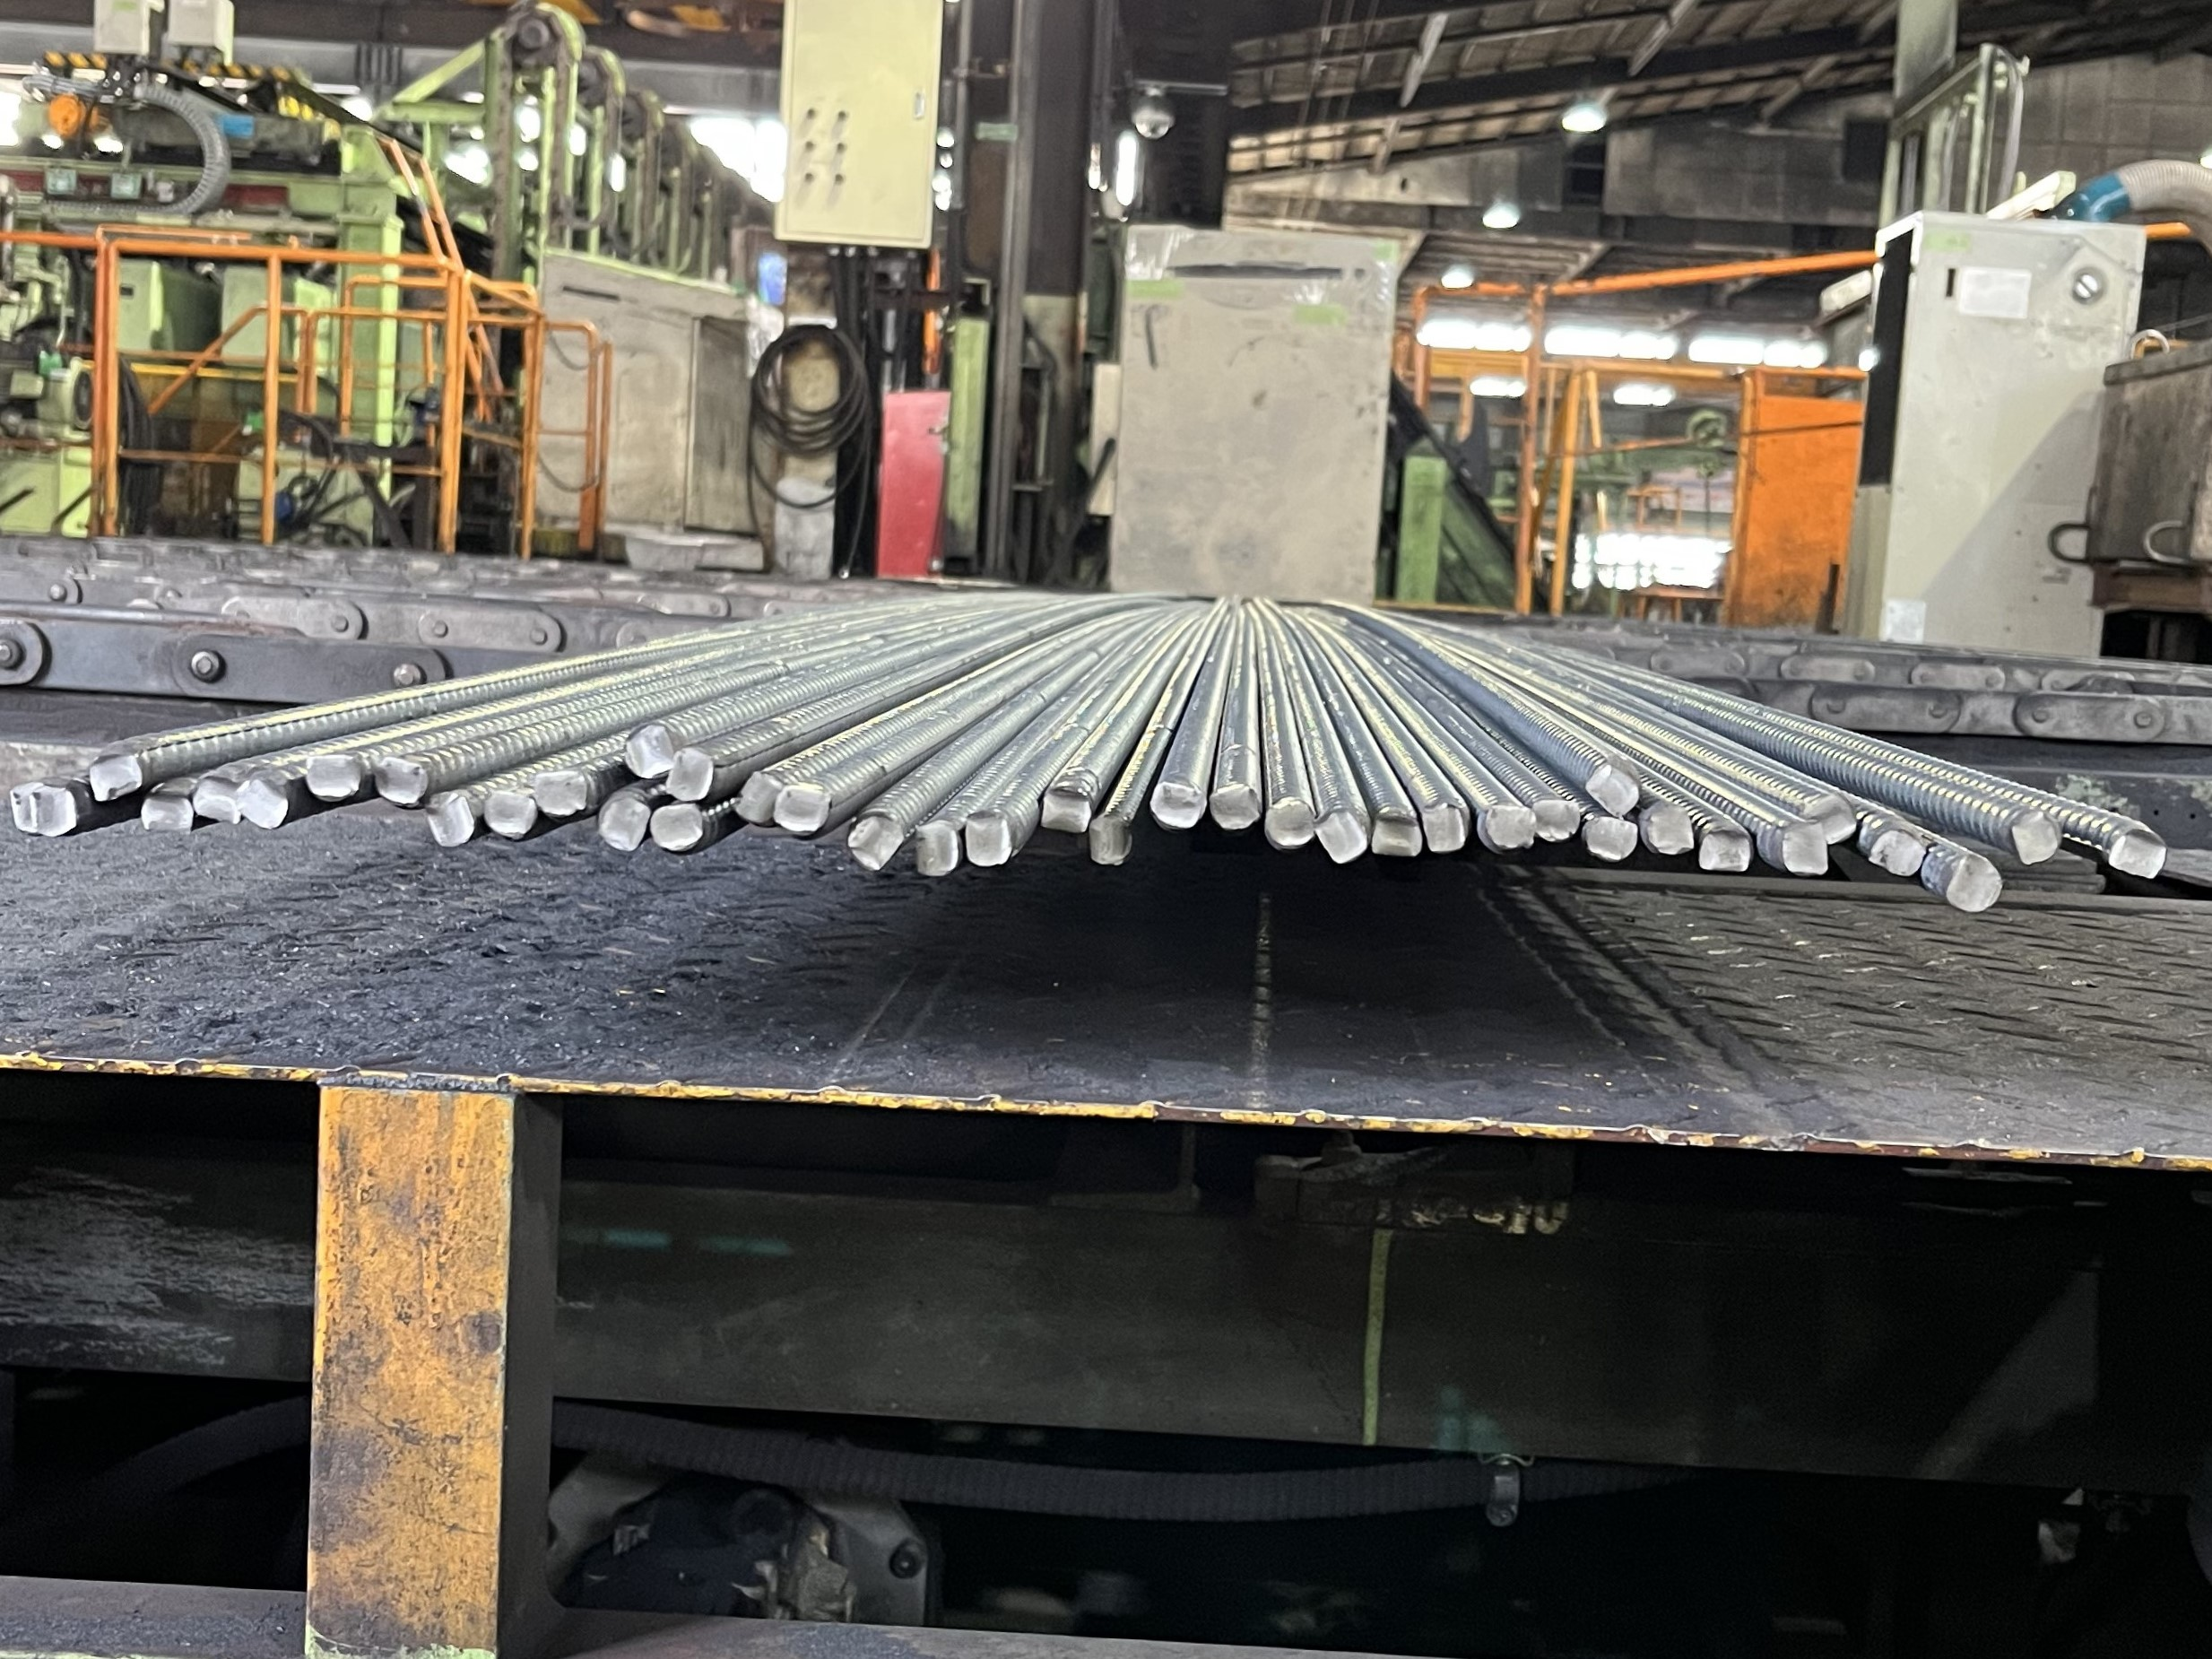rod: (843, 812, 907, 873), (1944, 852, 2005, 915), (772, 779, 833, 838), (2104, 826, 2168, 882), (1801, 788, 1860, 847), (1585, 760, 1644, 817), (1639, 798, 1695, 859), (2010, 805, 2066, 866), (1315, 805, 1369, 868), (1865, 828, 1930, 878), (620, 721, 676, 779), (232, 777, 291, 831), (371, 755, 430, 809), (597, 793, 651, 852), (1146, 779, 1207, 831), (305, 753, 368, 803), (427, 788, 477, 850), (87, 749, 143, 805), (1261, 796, 1317, 852), (481, 786, 538, 840), (1475, 803, 1536, 854), (662, 746, 716, 802), (961, 810, 1014, 868), (1207, 781, 1264, 833), (138, 788, 197, 838), (913, 817, 960, 880), (1371, 807, 1423, 863), (648, 802, 705, 852), (31, 779, 78, 840), (1780, 821, 1831, 877), (1580, 816, 1639, 863), (192, 774, 242, 828), (531, 770, 589, 817), (1420, 802, 1470, 854), (1038, 784, 1092, 833), (1087, 814, 1136, 868), (1698, 826, 1752, 875), (733, 769, 780, 824), (1533, 798, 1581, 843), (7, 781, 31, 833)
